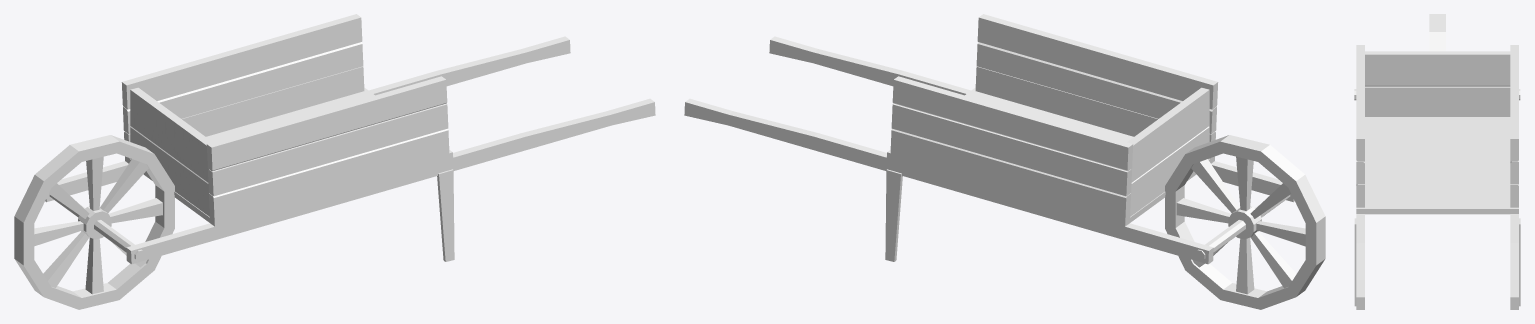
Rendered from Tool_Wheelbarrow_01.glb.
3 renders of one model, left to right at view 1: azimuth 30°, elevation 25°; view 2: azimuth 150°, elevation 25°; view 3: azimuth 270°, elevation 25°, orthographic. The views are drawn at different scales.
Visible parts, largest first — view 1: Tool_Wheelbarrow_01, Tool_Wheelbarrow_Wheel_01; view 2: Tool_Wheelbarrow_01, Tool_Wheelbarrow_Wheel_01; view 3: Tool_Wheelbarrow_01, Tool_Wheelbarrow_Wheel_01.
Boxes of the visible parts, bbox=[...] form: Tool_Wheelbarrow_01: bbox=[45, 14, 655, 264]; Tool_Wheelbarrow_Wheel_01: bbox=[14, 135, 174, 309]; Tool_Wheelbarrow_01: bbox=[684, 14, 1294, 264]; Tool_Wheelbarrow_Wheel_01: bbox=[1165, 135, 1325, 309]; Tool_Wheelbarrow_01: bbox=[1354, 45, 1520, 309]; Tool_Wheelbarrow_Wheel_01: bbox=[1429, 14, 1445, 51].
Size of the model in its own units: 2.35 by 0.689 by 0.6328.
1 material, 1 textured.
